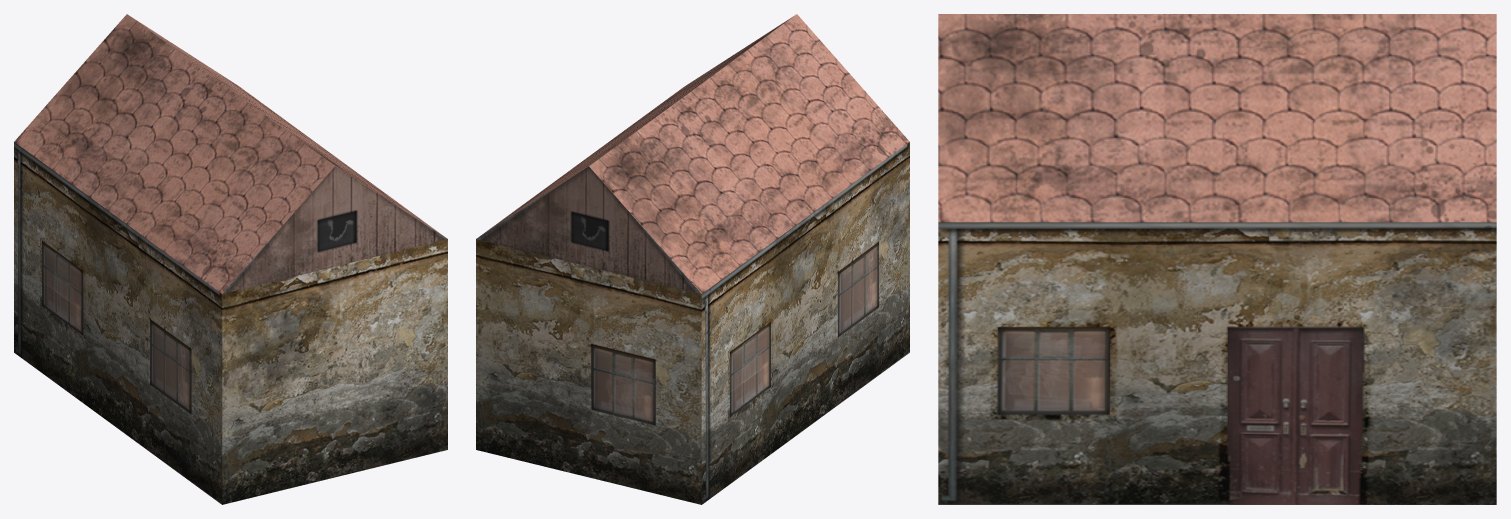
Rendered from house3.fbx.
3 renders of one model, left to right at view 1: azimuth 30°, elevation 25°; view 2: azimuth 150°, elevation 25°; view 3: azimuth 270°, elevation 25°, orthographic. The views are drawn at different scales.
Visible parts, largest first — view 1: house3; view 2: house3; view 3: house3.
Part boxes in pixels (left/top/right/bottom): house3: left=14, top=14, right=447, bottom=504; house3: left=476, top=14, right=909, bottom=504; house3: left=938, top=14, right=1496, bottom=504.
Bounding box in the file's own units: 921 × 1213 × 1471.
